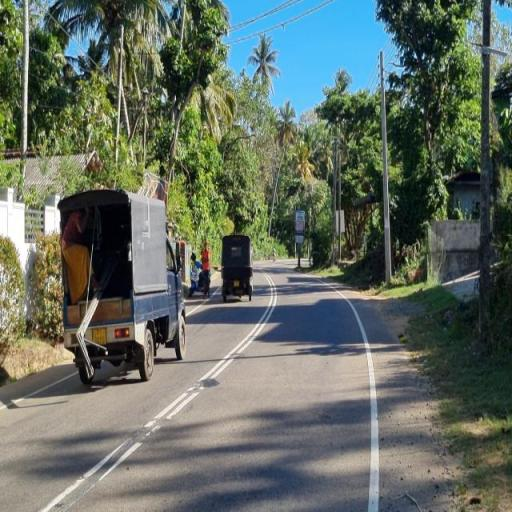double_white_line: (142, 270, 278, 437)
